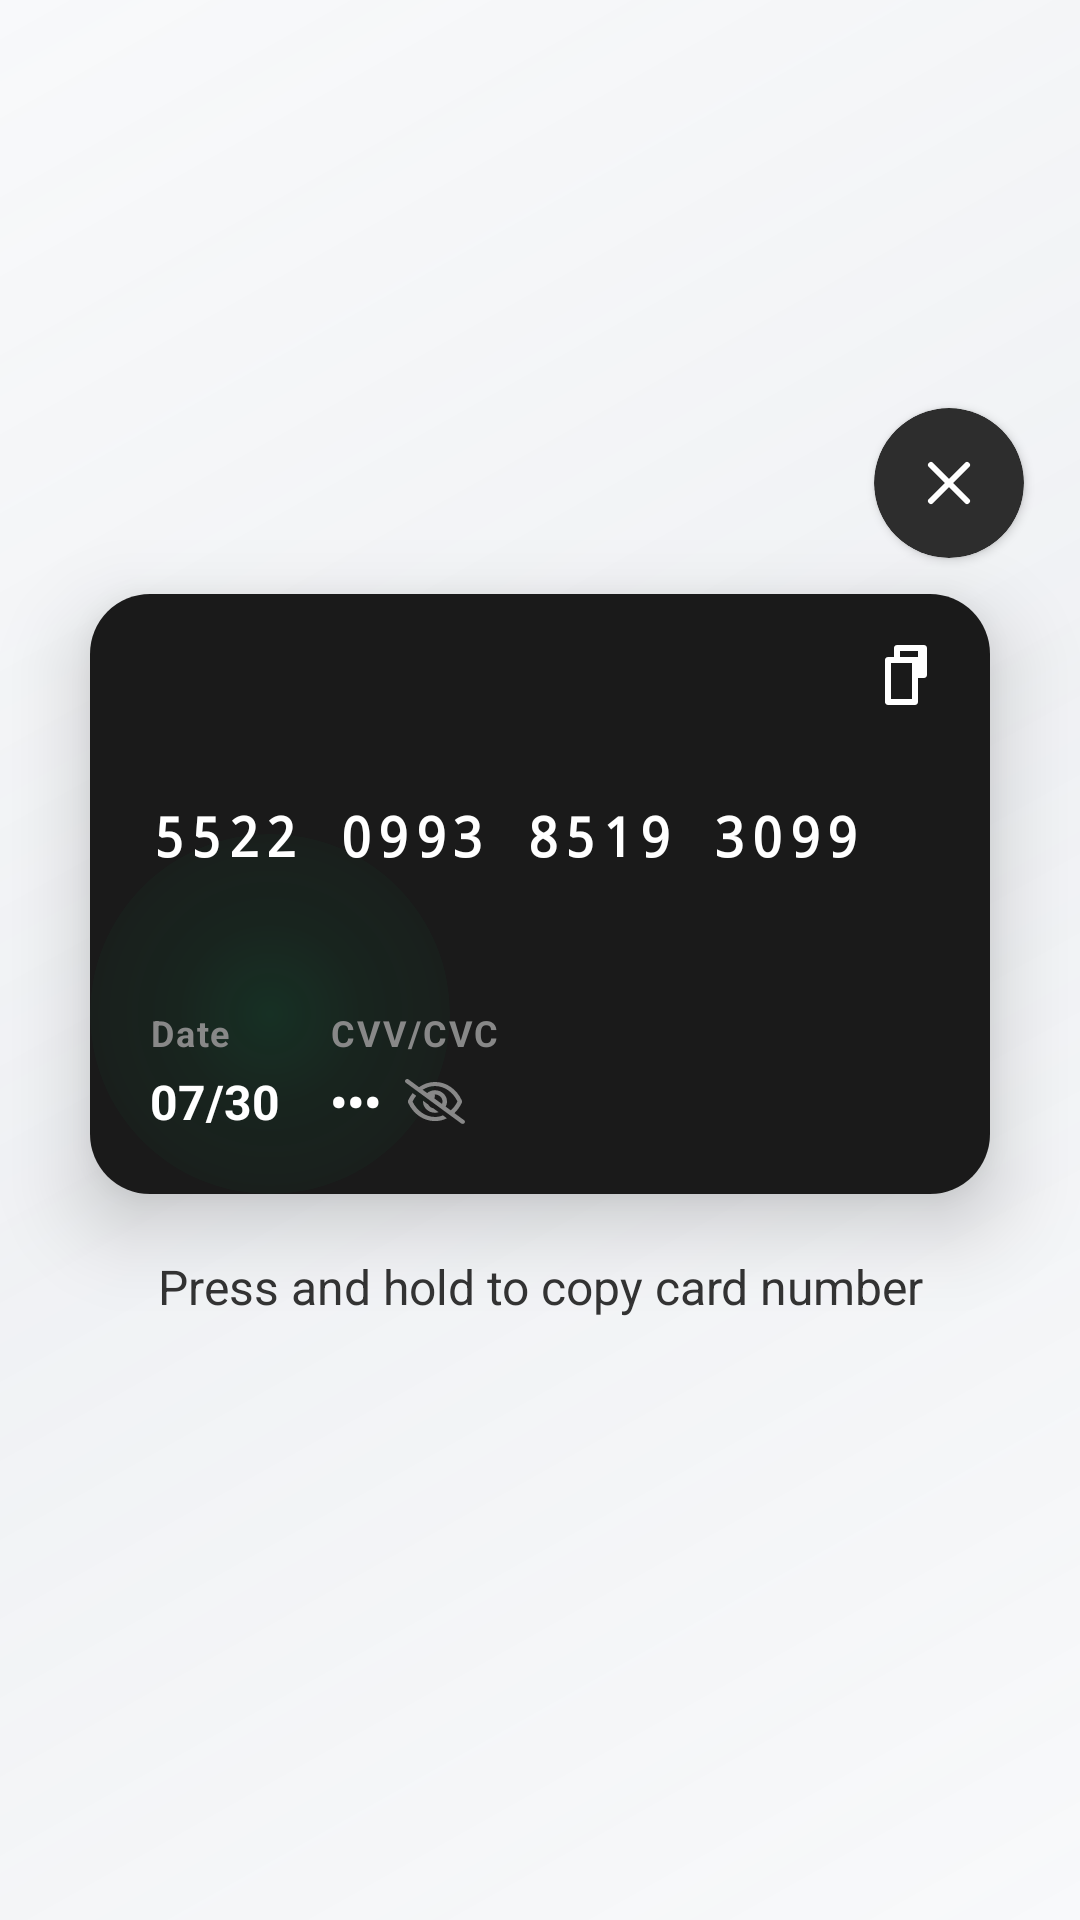

Named icons in this screenshot (1080px x 1920px) and their centers, point (x, y):
Close: point (949, 483)
eye closed: point (435, 1101)
